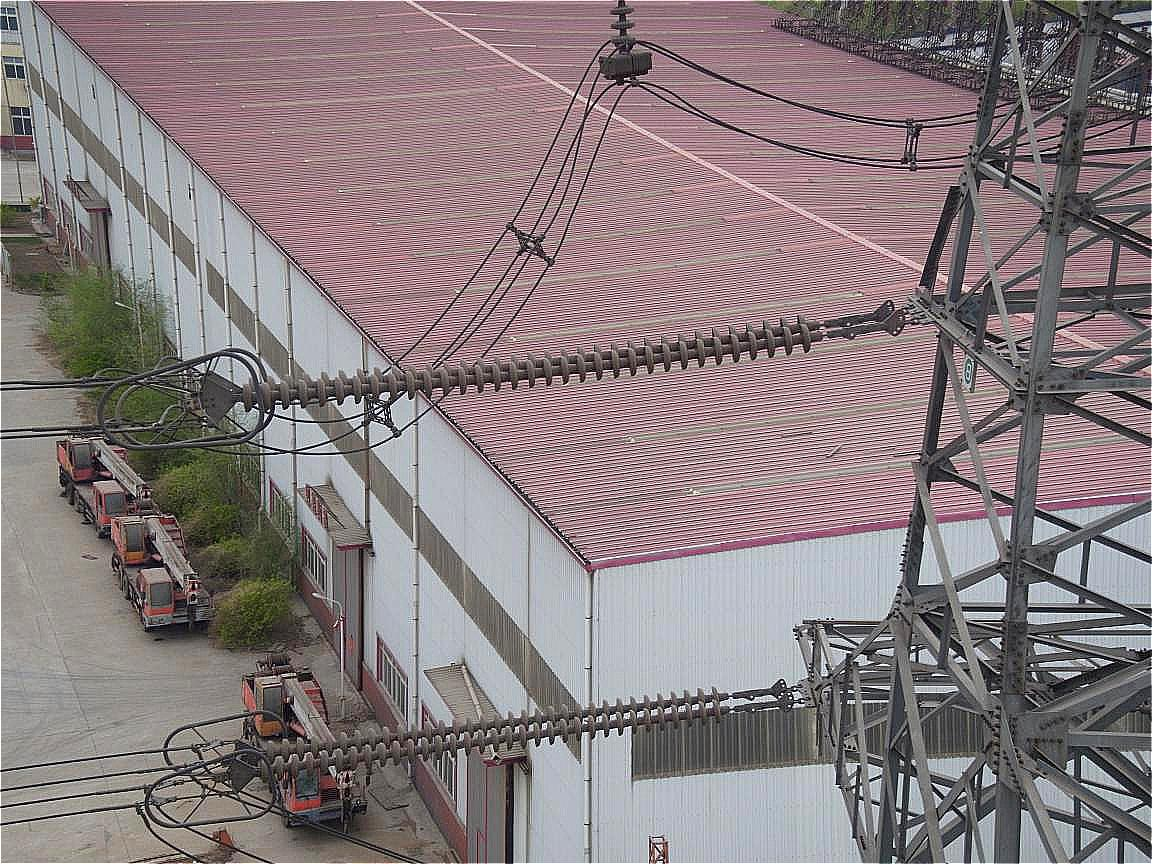insultor1: (224, 303, 886, 423), (246, 674, 737, 780)
